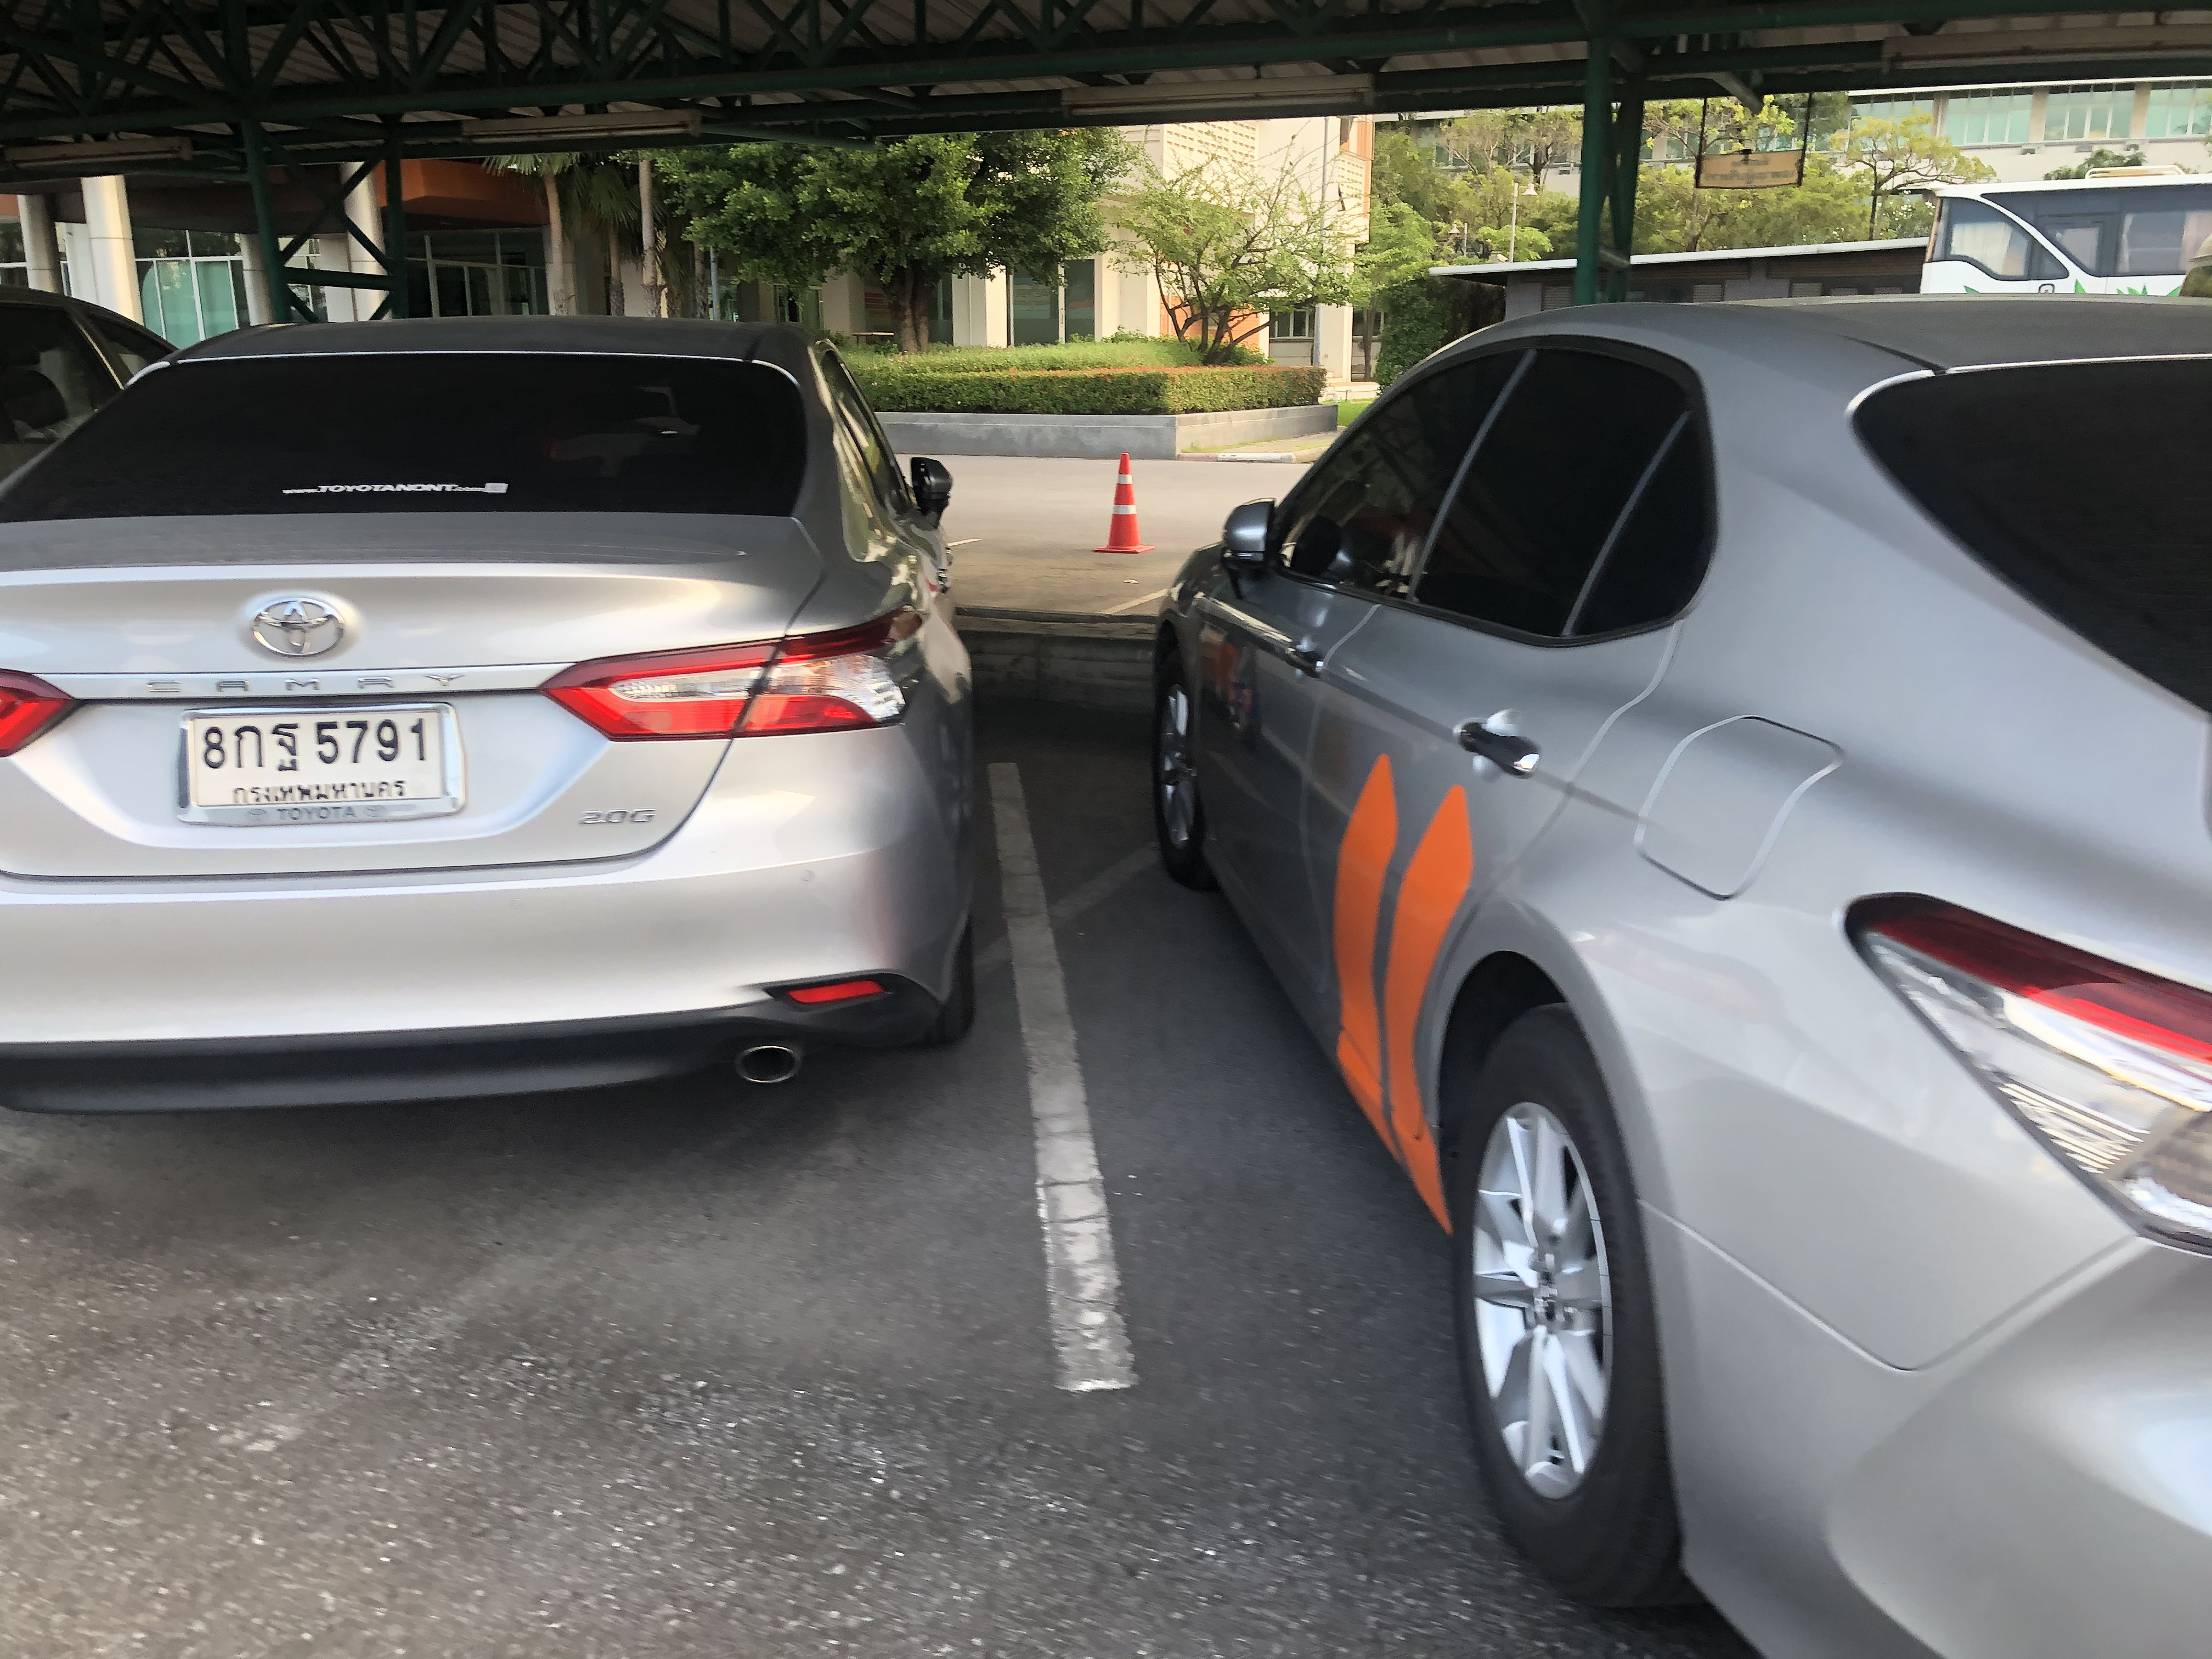in: (195, 716, 441, 805)
out: (165, 704, 470, 826)
